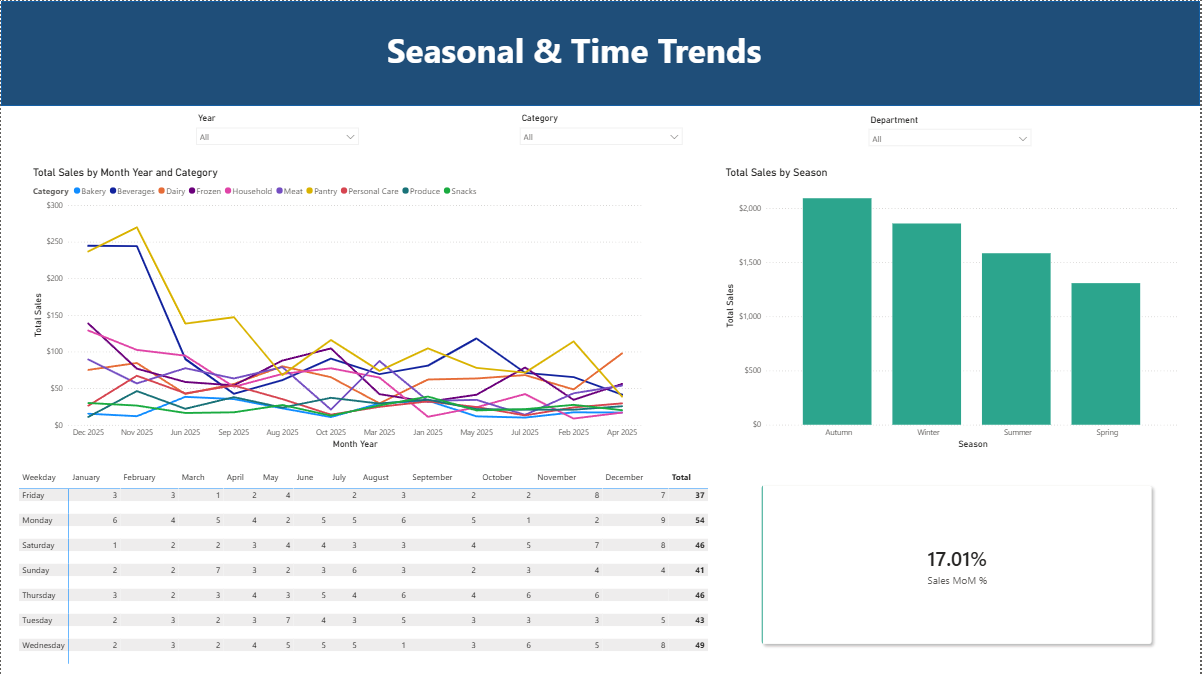

The page's visual inventory and layout, read from the dashboard file:
{"tool":"powerbi","page":{"name":"Seasonal Trends","canvas":[1920,1080],"ordinal":3},"visuals":[{"type":"lineChart","fields":{"Category":["Calendar.Month Year"],"Series":["FactTransactions.Category"],"Y":["FactTransactions.Total Sales"]},"box":[46,264,984,458],"z":0},{"type":"columnChart","fields":{"Category":["Calendar.Season"],"Y":["FactTransactions.Total Sales"]},"box":[1154,264,736,458],"z":1000},{"type":"pivotTable","fields":{"Rows":["Calendar.Weekday"],"Columns":["Calendar.Month"],"Values":["FactTransactions.Transaction Count"]},"box":[24,746,1116,334],"z":2000},{"type":"cardVisual","fields":{"Data":["FactTransactions.Sales MoM %"]},"box":[1188,746,682,312],"z":3000},{"type":"slicer","fields":{"Values":["Calendar.Year"]},"box":[302,174,280,84],"z":4000},{"type":"slicer","fields":{"Values":["FactTransactions.Department"]},"box":[1378,176,280,84],"z":5000},{"type":"slicer","fields":{"Values":["FactTransactions.Category"]},"box":[820,174,280,90],"z":6000},{"type":"shape","box":[0,0,1920,168],"z":7000},{"type":"textbox","box":[176,36,1482,96],"z":7001}]}

Visuals, with their boxes in screenshot pixels (x1, y1, x2, y2), scaled from the page's 1920x1080 canvas onto the 1202x675 screenshot:
lineChart - Calendar.Month Year x FactTransactions.Category: <region>29, 165, 645, 451</region>
columnChart - Calendar.Season x FactTransactions.Total Sales: <region>722, 165, 1183, 451</region>
pivotTable - Calendar.Weekday x Calendar.Month: <region>15, 466, 714, 674</region>
cardVisual - FactTransactions.Sales MoM %: <region>744, 466, 1171, 661</region>
slicer - Calendar.Year: <region>189, 109, 364, 161</region>
slicer - FactTransactions.Department: <region>863, 110, 1038, 162</region>
slicer - FactTransactions.Category: <region>513, 109, 689, 165</region>
shape: <region>0, 0, 1201, 105</region>
textbox: <region>110, 22, 1038, 82</region>
